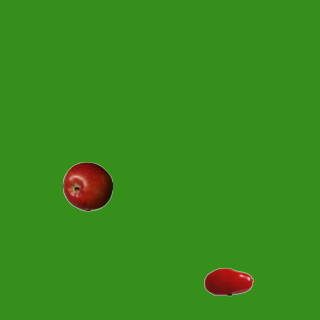Apple Braeburn: (62, 161, 112, 211)
Tomato 2: (203, 256, 253, 306)
